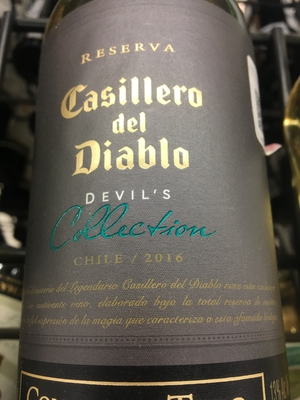casillero del diablo devils collection verde: (25, 1, 281, 400)
